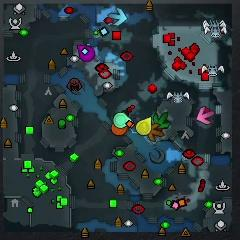p2: (113, 112, 135, 128)
p3: (77, 45, 95, 62)
p4: (136, 118, 153, 135)
p5: (111, 122, 131, 137)
x1: (196, 107, 215, 125)
x3: (107, 7, 127, 26)
x4: (152, 110, 170, 128)
x5: (146, 123, 164, 142)
